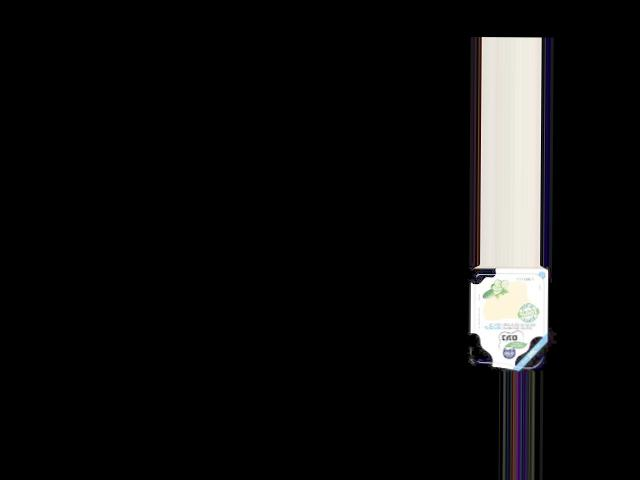cheese: (466, 264, 552, 369)
